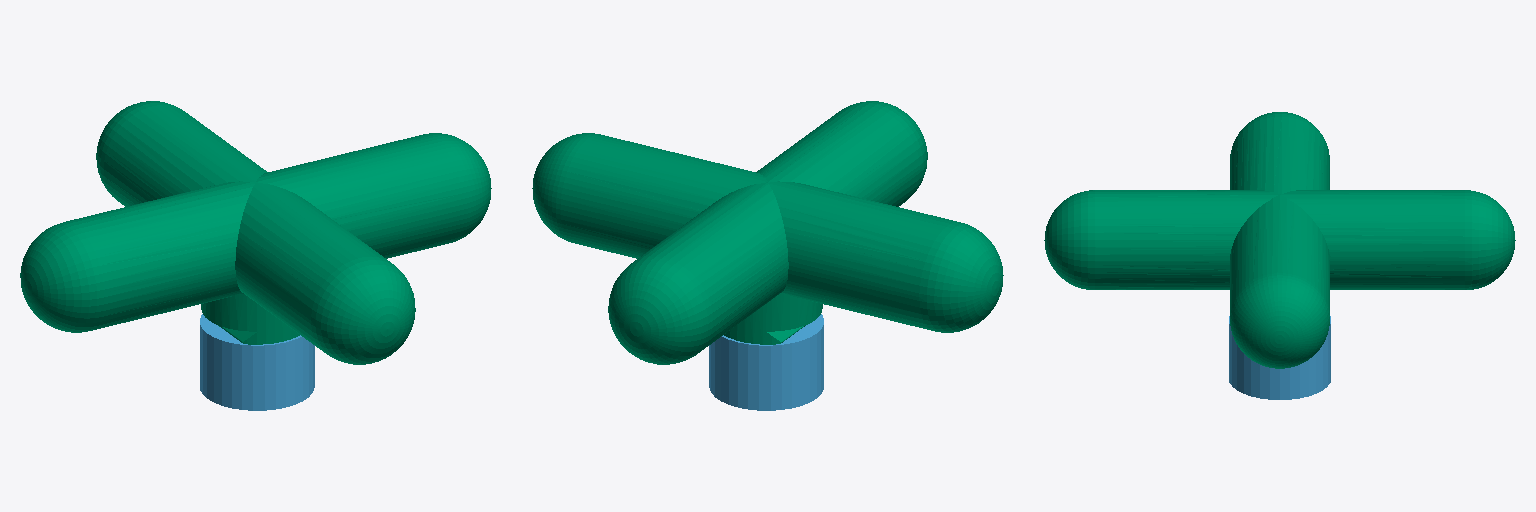
robot.urdf — quad_valve:
<?xml version="1.0" ?>
<robot name="quad_valve">
	<link name="world" />
	<link name="base">
		<inertial>
			<origin xyz="0 0 0" />
			<mass value="0.1" />
			<inertia ixx="1e-3" ixy="0.0" ixz="0.0" iyy="1e-3" iyz="0.0"
				izz="1e-3" />
		</inertial>
		<visual>
			<origin xyz="0 0 0.0125" />
			<geometry>
				<cylinder length="0.025" radius="0.02" />
			</geometry>
		</visual>
		<collision>
			<origin xyz="0 0 0.0125" />
			<geometry>
				<cylinder length="0.025" radius="0.02" />
			</geometry>
		</collision>
	</link>

	<link name="head">
		<inertial>
			<origin xyz="0 0 0" />
			<mass value="0.1" />
			<inertia ixx="1e-3" ixy="0.0" ixz="0.0" iyy="1e-3" iyz="0.0"
				izz="1e-3" />
		</inertial>
		<visual>
			<origin xyz="0 0 0" />
			<geometry>
				<mesh filename="meshes/valves/quad_valve.stl" />
			</geometry>
		</visual>
		<collision>
			<origin xyz="0 0 0" />
			<geometry>
				<mesh filename="meshes/valves/quad_valve.stl" />
			</geometry>
		</collision>
	</link>

	<joint name="fixed_palm" type="fixed">
		<origin rpy="0. 0. 0." xyz="0. 0. 0." />
		<parent link="world" />
		<child link="base" />
	</joint>

	<joint name="valve_joint" type="revolute">
		<origin rpy="0 0 0" xyz="0 0.0 0.025" />
		<parent link="base" />
		<child link="head" />
		<limit effort="100000" lower="-31" upper="31" velocity="1000" />
			<axis xyz="0 0 1" />
			<dynamics damping="160" friction="0.0" />
	</joint>

</robot>

--- Render facts (derived) ---
Views: 3 orthographic renders of the robot side by side, from view 1: azimuth 30°, elevation 25°; view 2: azimuth 150°, elevation 25°; view 3: azimuth 270°, elevation 25°.
Robot: quad_valve — 3 links, 2 joints (1 revolute, 1 fixed); root link world; default pose: all joints at 0.
Links seen in each view (by area): view 1: head, base; view 2: head, base; view 3: head, base.
Link boxes in pixels (x1,y1,x2,y2): head: [20, 101, 491, 364]; base: [200, 314, 314, 410]; head: [532, 101, 1003, 364]; base: [709, 314, 823, 410]; head: [1044, 112, 1515, 368]; base: [1229, 316, 1330, 399].
Bounding box of the posed robot: 0.183 × 0.183 × 0.0785 m (x, y, z).
1 mesh visuals loaded from 1 distinct referenced files (1 binary STL).
